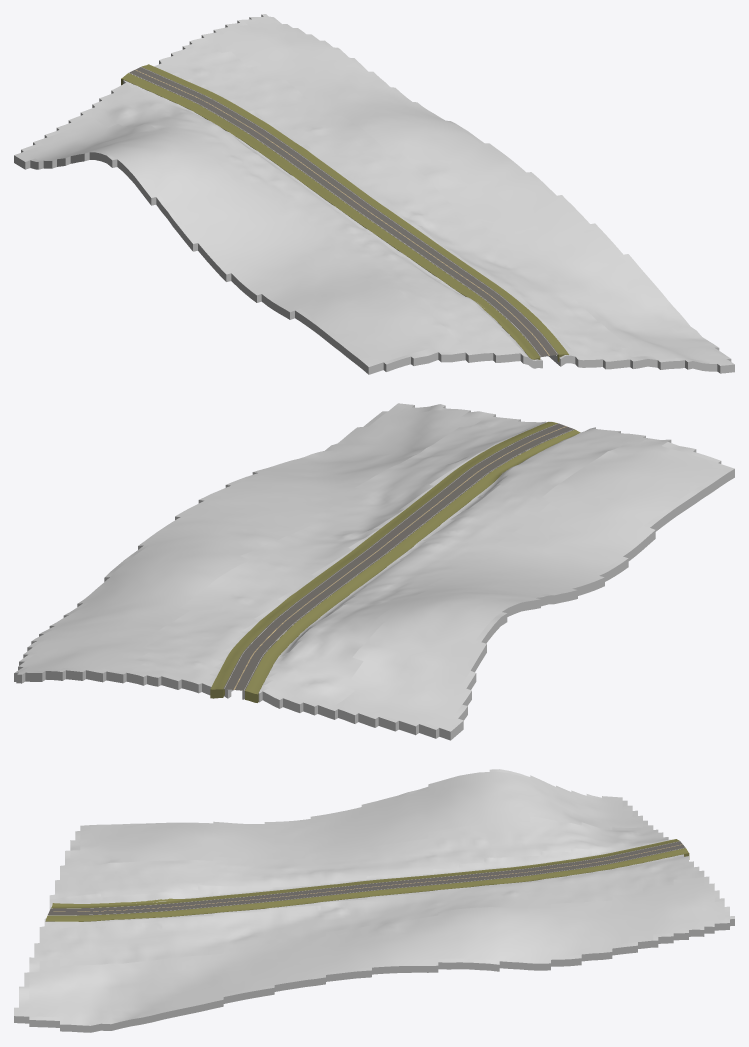
File: conz_151.glb
3 views of the same model, one above another, from view 1: azimuth 30°, elevation 25°; view 2: azimuth 150°, elevation 25°; view 3: azimuth 270°, elevation 25° (orthographic). The views are drawn at different scales.
Visible parts, largest first — view 1: terrain151, road151, verge151L, verge151R, paint_white151; view 2: terrain151, road151, verge151L, verge151R, paint_white151; view 3: terrain151, road151, verge151R, verge151L, paint_white151, paint_yellow151.
Boxes of the visible parts, x1,y1,x2,y2 form: terrain151: [14, 14, 734, 374]; road151: [129, 67, 558, 357]; verge151L: [121, 73, 540, 359]; verge151R: [141, 64, 568, 361]; paint_white151: [129, 67, 557, 356]; terrain151: [14, 403, 734, 740]; road151: [223, 423, 574, 690]; verge151L: [245, 429, 580, 702]; verge151R: [210, 422, 557, 698]; paint_white151: [224, 423, 574, 690]; terrain151: [14, 769, 734, 1032]; road151: [48, 841, 685, 915]; verge151R: [45, 848, 689, 921]; verge151L: [51, 839, 679, 908]; paint_white151: [48, 841, 684, 915]; paint_yellow151: [53, 844, 682, 911].
Size of the model in its own units: 160 by 43.86 by 282.
